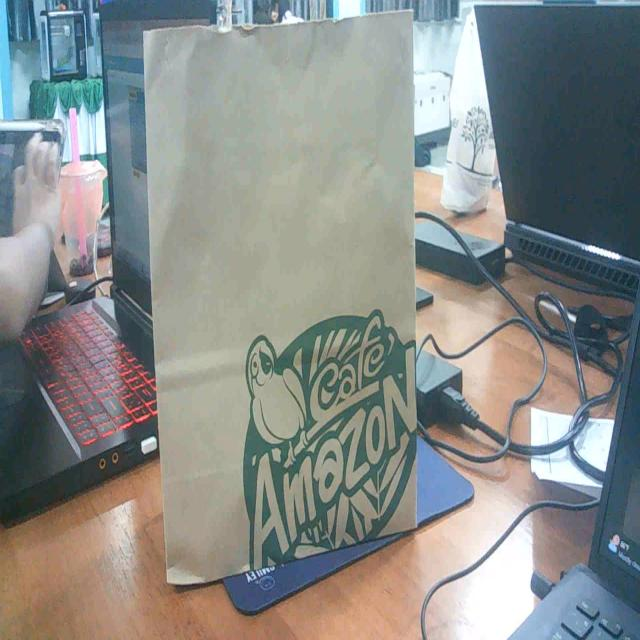bag: (120, 0, 427, 585)
